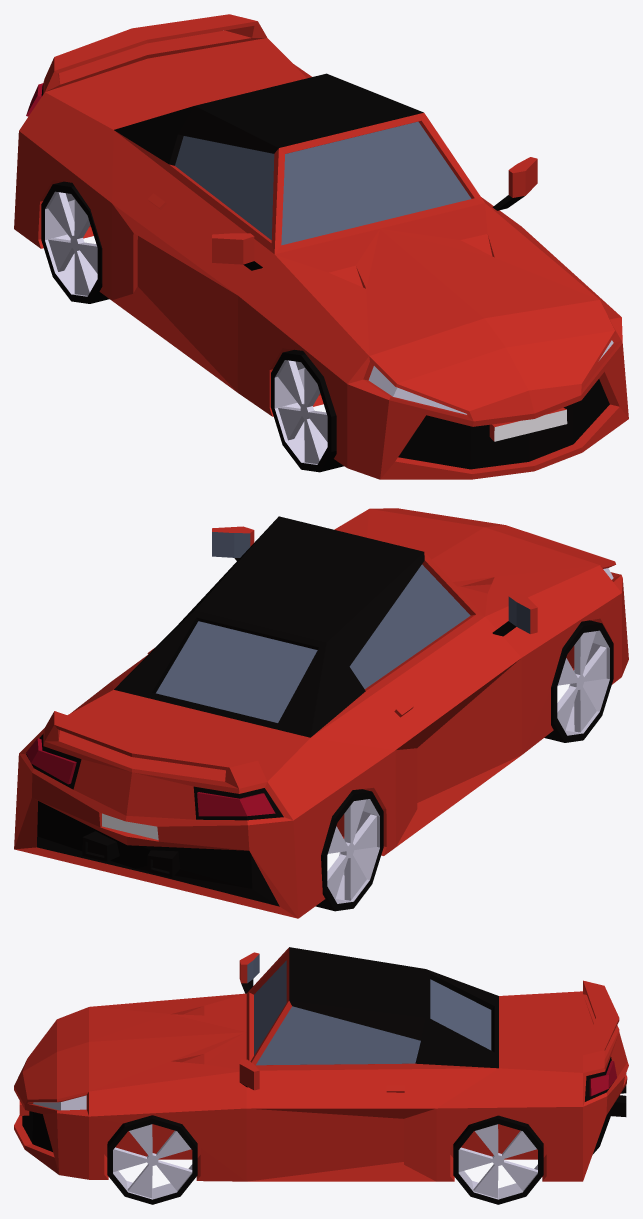
File: Sports.glb
3 views of the same model, one above another, from view 1: azimuth 30°, elevation 25°; view 2: azimuth 150°, elevation 25°; view 3: azimuth 270°, elevation 25° (orthographic). The views are drawn at different scales.
Visible parts, largest first — view 1: Sports, Sports wheel front right, Sports wheel rear right; view 2: Sports, Sports wheel front right, Sports wheel rear right; view 3: Sports, Sports wheel front left, Sports wheel rear left.
Boxes of the visible parts, x1,y1,x2,y2 form: Sports: (14, 14, 628, 479); Sports wheel front right: (271, 349, 343, 472); Sports wheel rear right: (41, 181, 109, 303); Sports: (14, 508, 628, 918); Sports wheel front right: (544, 620, 613, 742); Sports wheel rear right: (315, 789, 383, 911); Sports: (14, 947, 628, 1181); Sports wheel front left: (107, 1115, 197, 1204); Sports wheel rear left: (453, 1115, 543, 1204).
Size of the model in its own units: 263 by 184 by 573.
